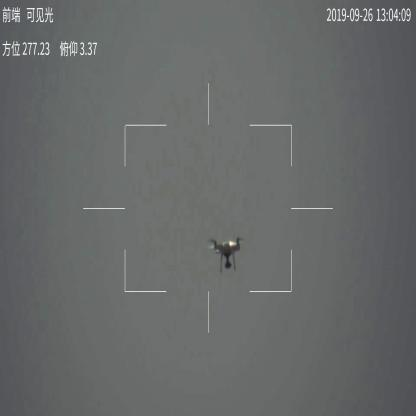uav: (204, 235, 249, 272)
